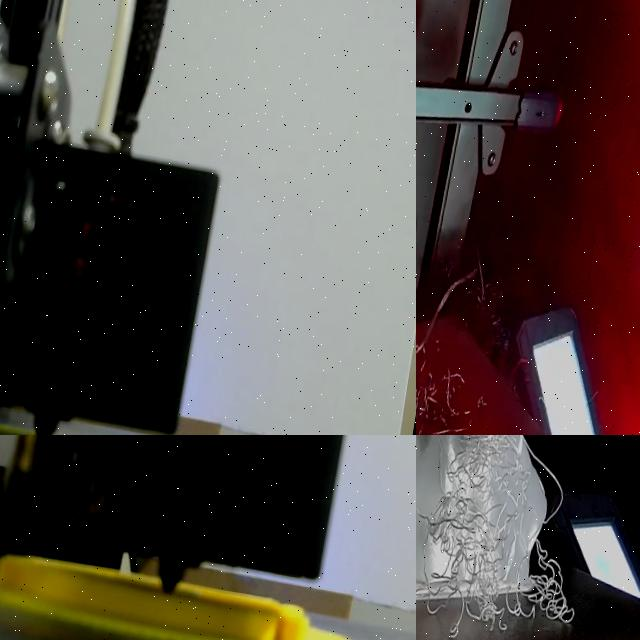spaghetti: (416, 435, 605, 640), (416, 194, 543, 435)
